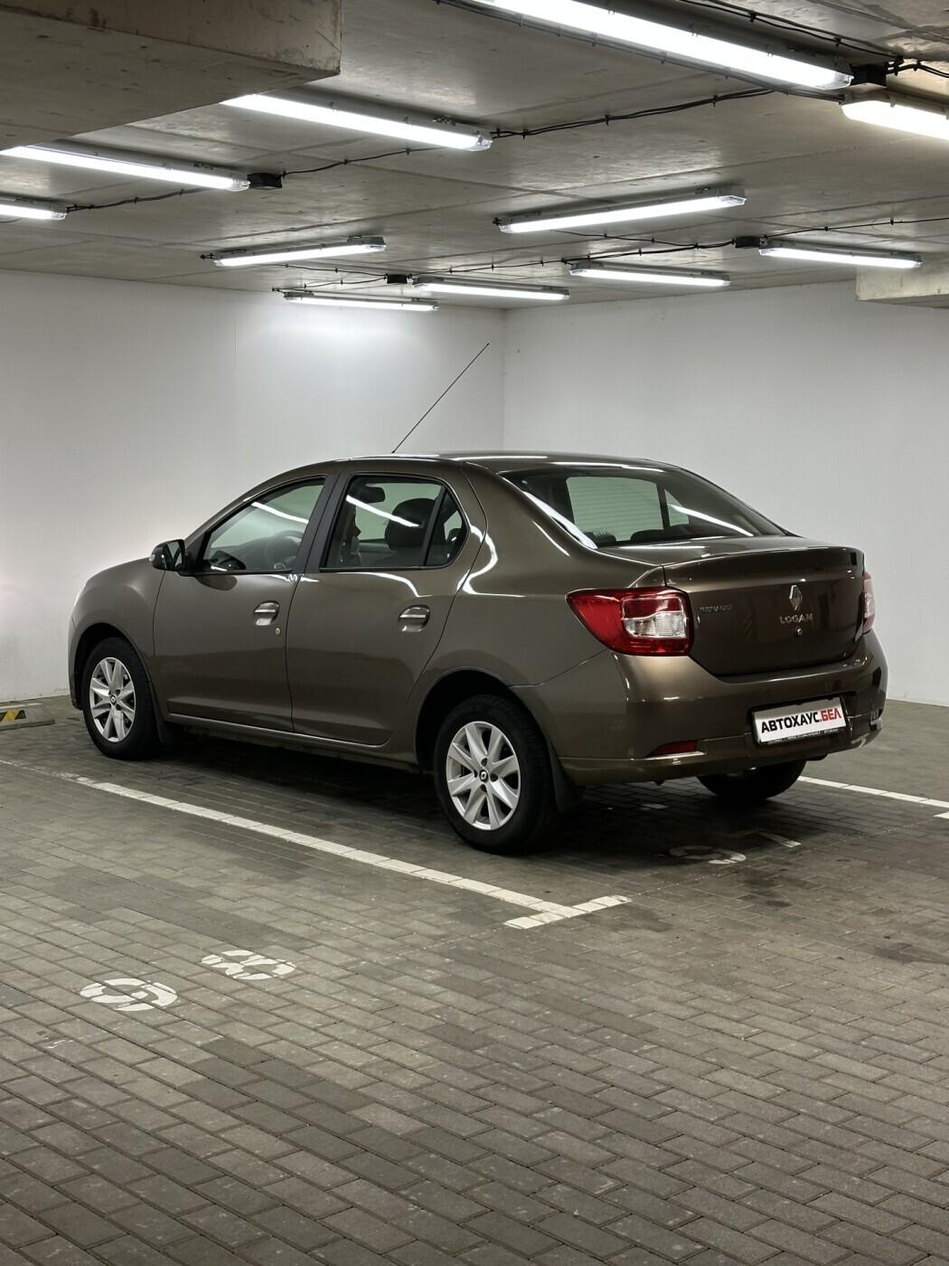Logan_2018: (54, 450, 897, 845)
